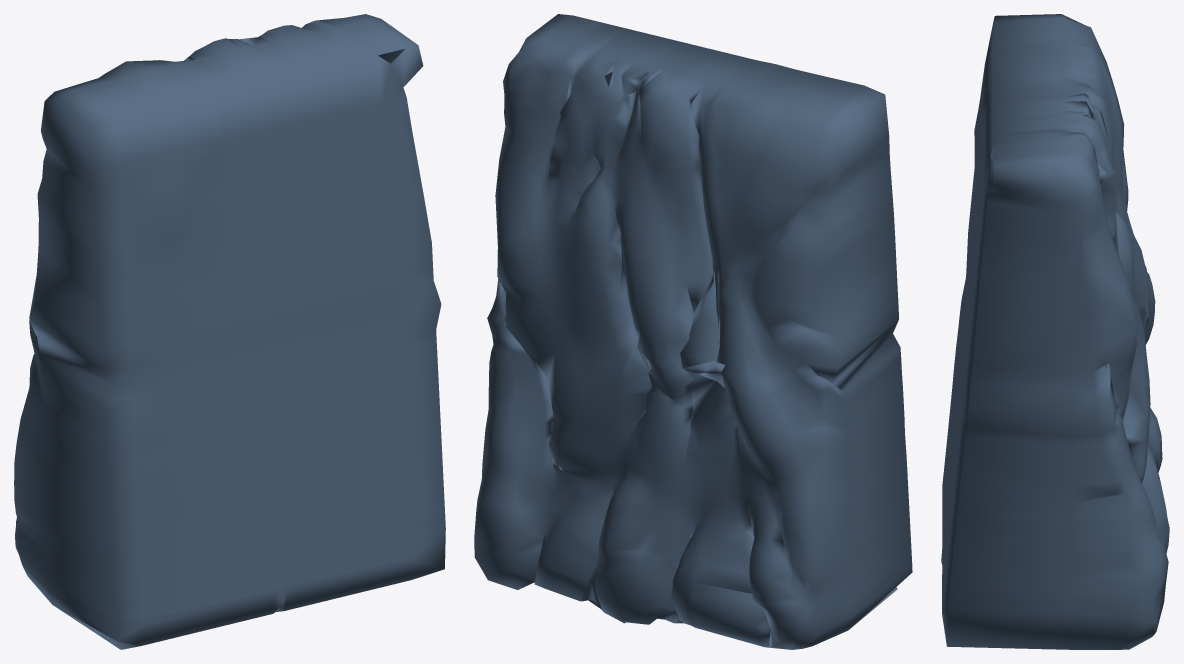
File: Wall.Basic_Gem02.dae
3 views of the same model, side by side, from view 1: azimuth 30°, elevation 25°; view 2: azimuth 150°, elevation 25°; view 3: azimuth 270°, elevation 25° (orthographic). The views are drawn at different scales.
Parts seen in each view (by area): view 1: Plane; view 2: Plane; view 3: Plane.
Part boxes in pixels (bbox=[...]): Plane: bbox=[14, 14, 445, 649]; Plane: bbox=[474, 14, 912, 649]; Plane: bbox=[941, 14, 1169, 649].
Bounding box in the file's own units: 13.06 × 7.83 × 18.66.
